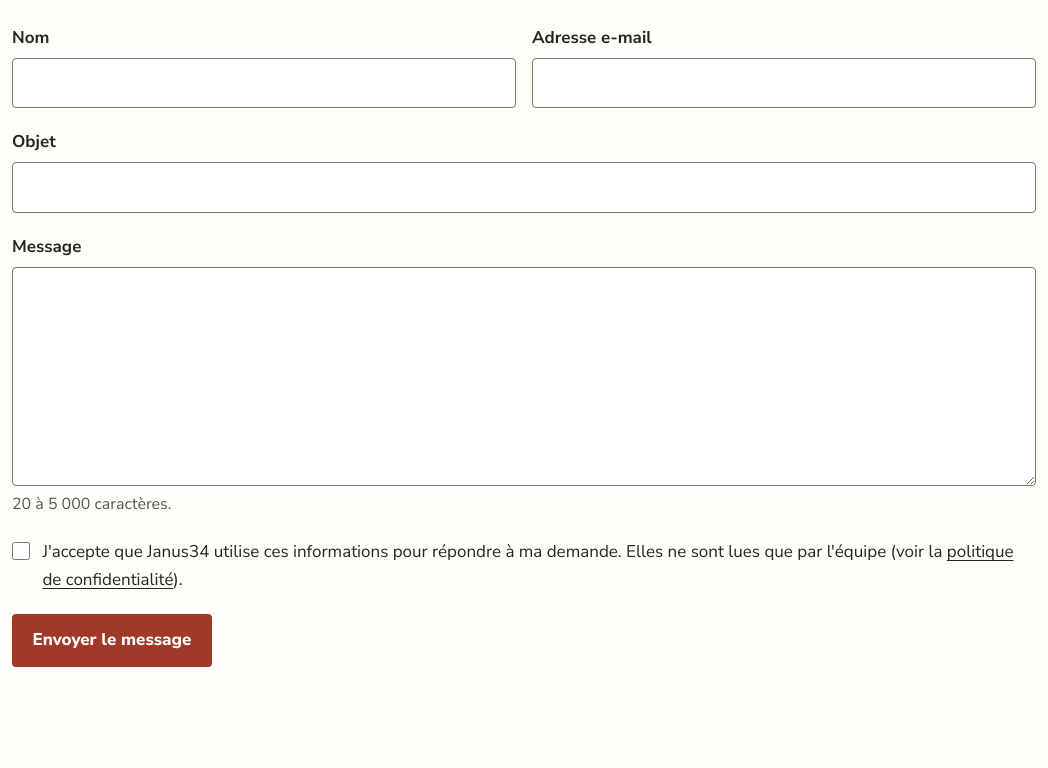
Test: shows field errors next to the fields
In the field labelled "Nom": (264, 83) [12, 58, 516, 108], type "Camille Martin"
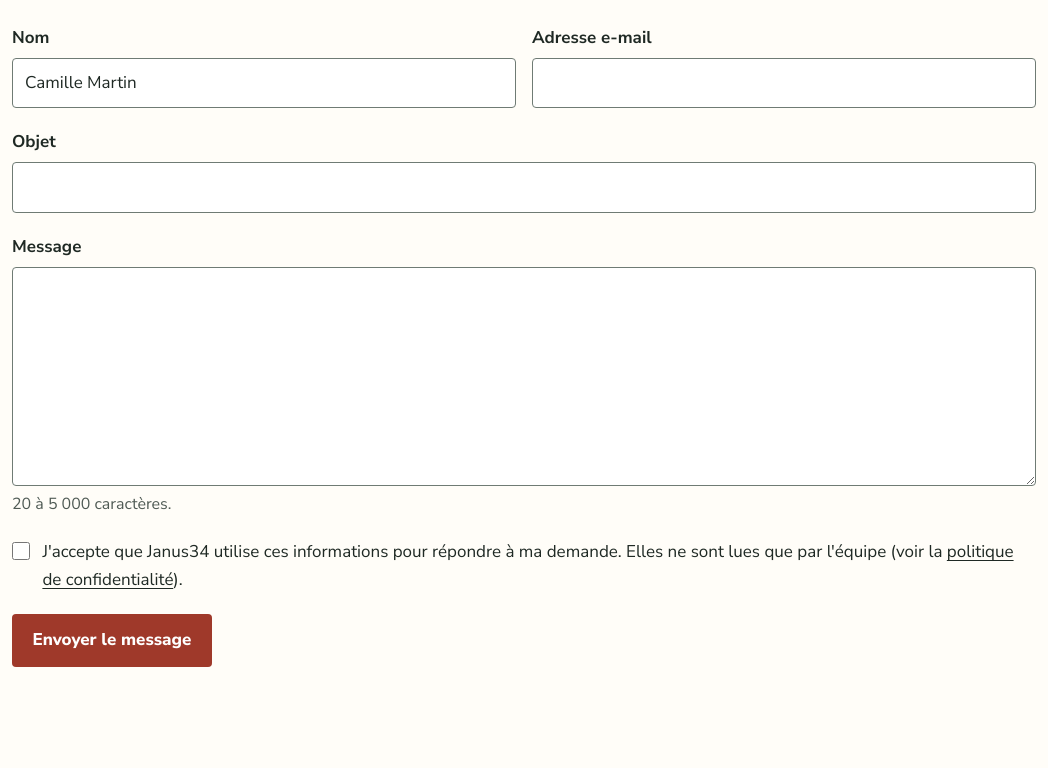
In the field labelled "Adresse e-mail": (784, 83) [532, 58, 1036, 108], type "camille@example.test"
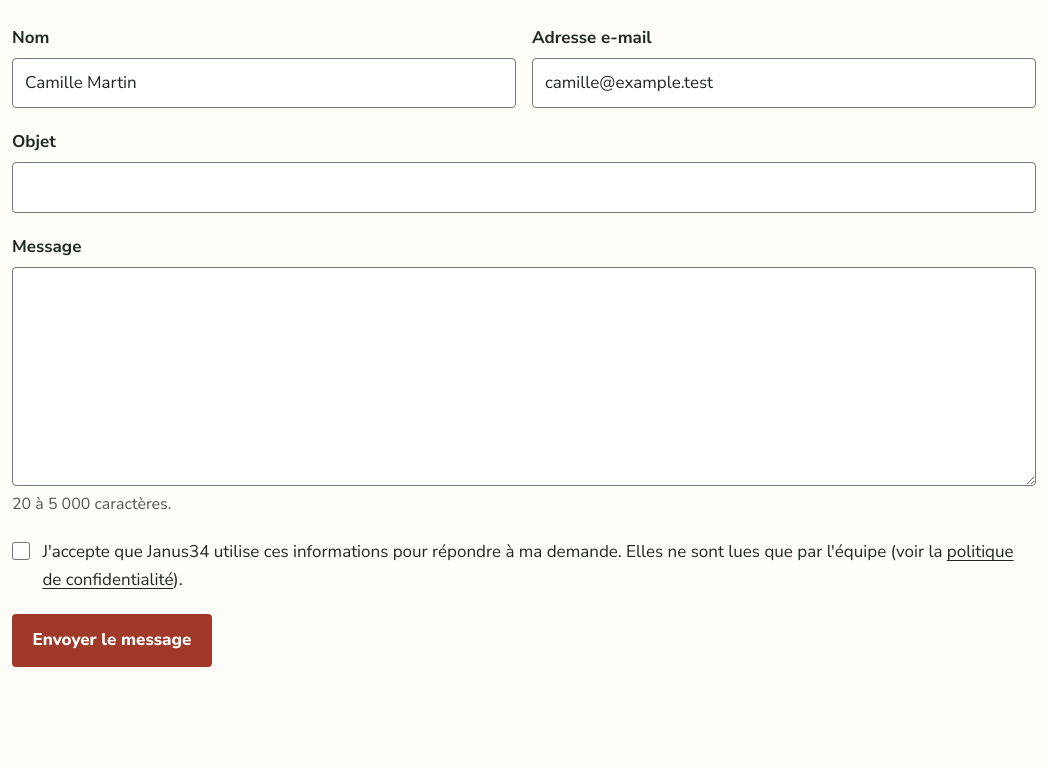
In the field labelled "Objet": (524, 188) [12, 162, 1036, 213], type "Première visite"
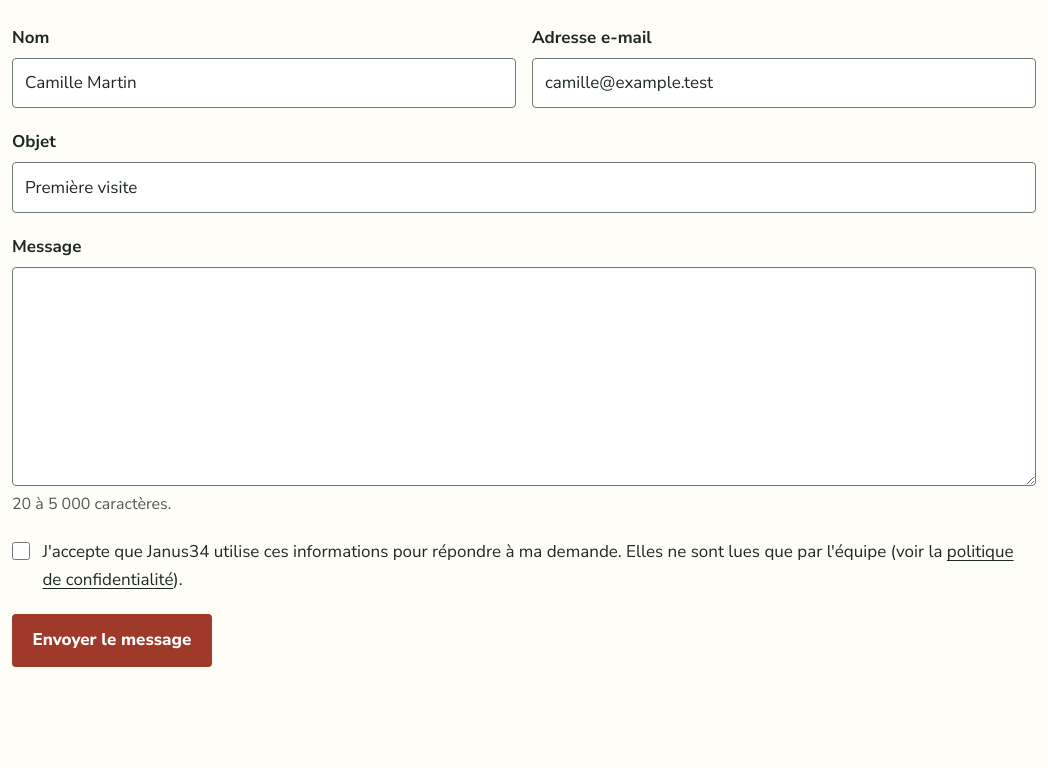
In the text box labelled "Message": (524, 376) [12, 267, 1036, 486], type "Bonjour, je voudrais venir découvrir le GEM."
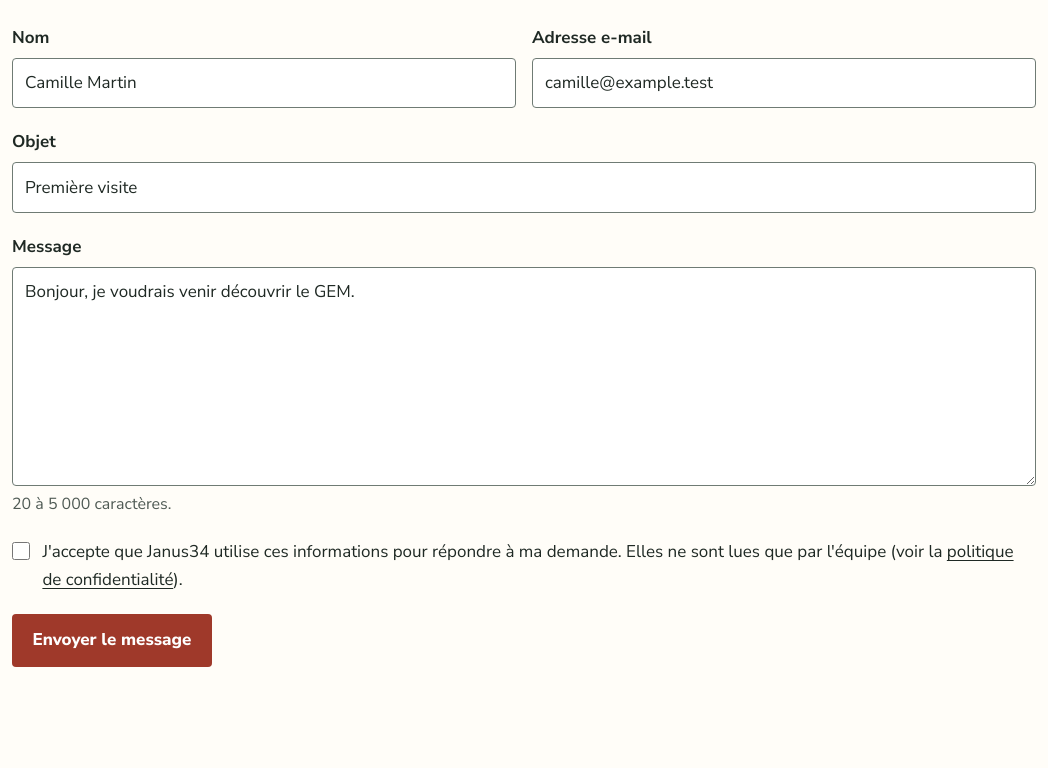
Click the checkbox: (21, 551) [12, 542, 30, 560]
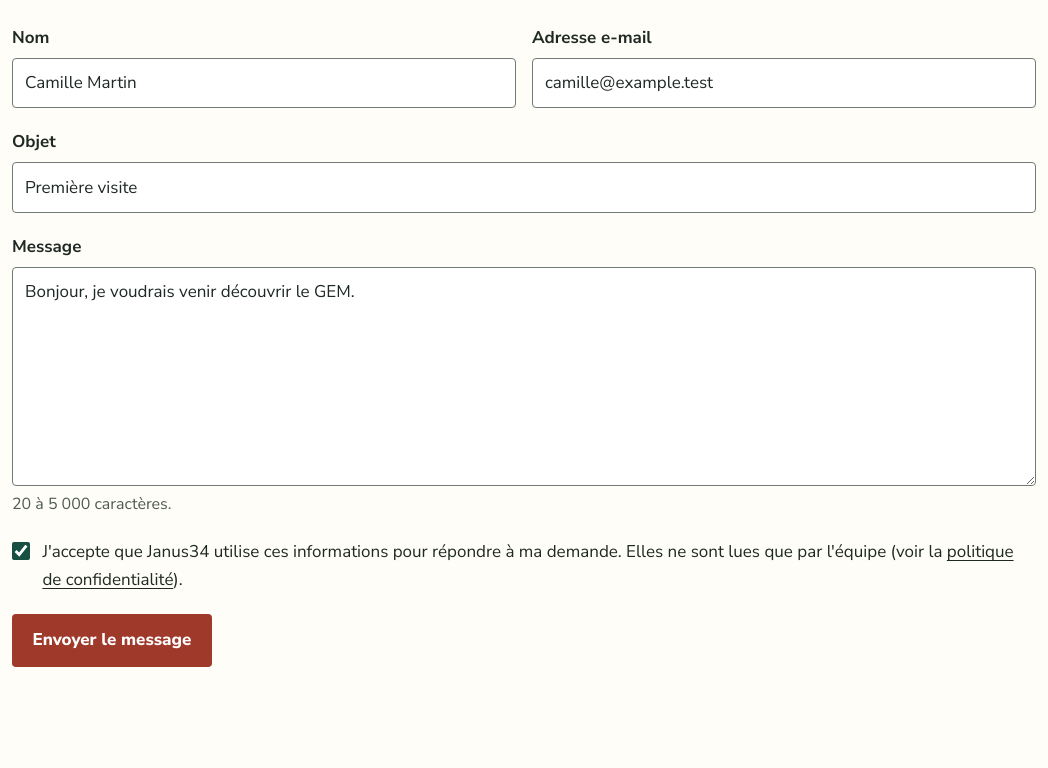
Submit the form
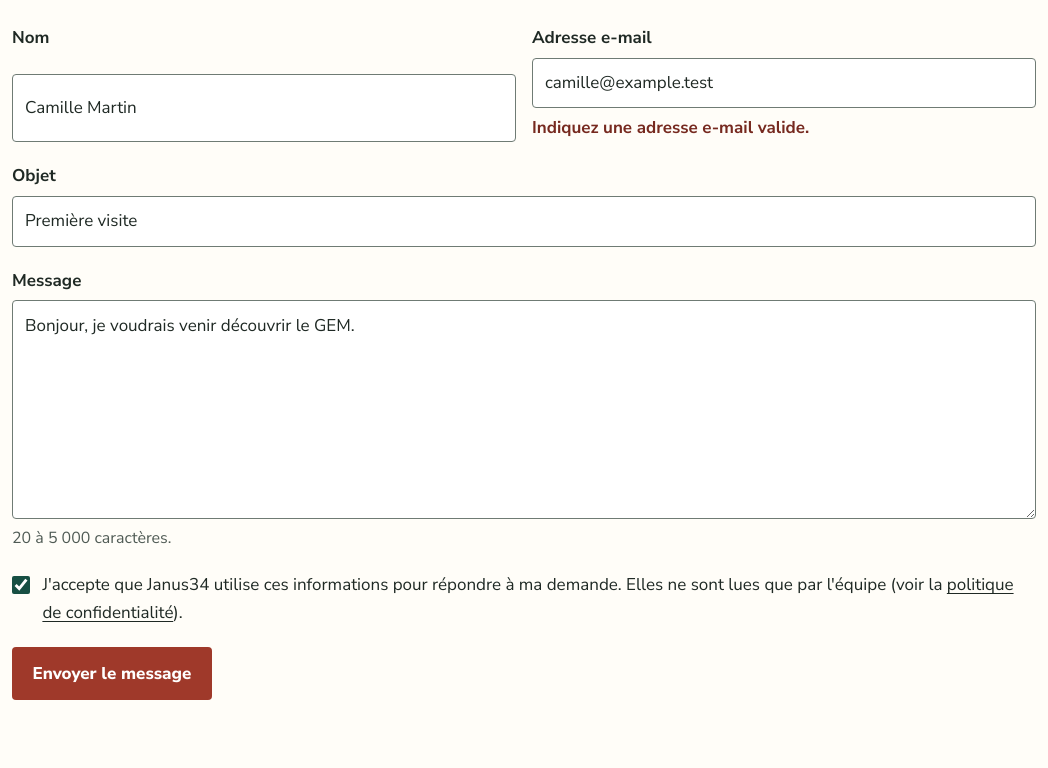
Now the text "Indiquez une adresse e-mail valide." is shown, box [532, 116, 809, 139]
